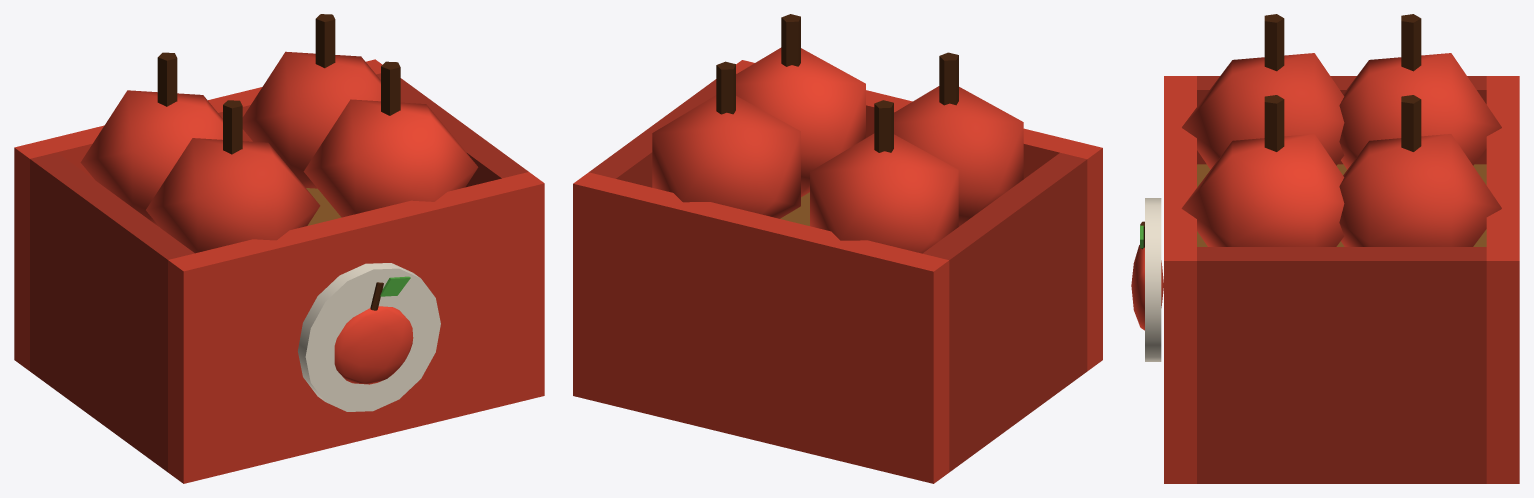
File: fruit_box_apple.glb
The picture shows the model from 3 angles, left to right: view 1: azimuth 30°, elevation 25°; view 2: azimuth 150°, elevation 25°; view 3: azimuth 270°, elevation 25°; orthographic projection. The views are drawn at different scales.
Parts seen in each view (by area): view 1: pv3_fruit_box_apple; view 2: pv3_fruit_box_apple; view 3: pv3_fruit_box_apple.
Boxes of the visible parts, left/top/right/bottom form: pv3_fruit_box_apple: left=14, top=14, right=544, bottom=483; pv3_fruit_box_apple: left=573, top=14, right=1102, bottom=483; pv3_fruit_box_apple: left=1131, top=14, right=1519, bottom=483.
Size of the model in its own units: 0.16 by 0.1342 by 0.142.
